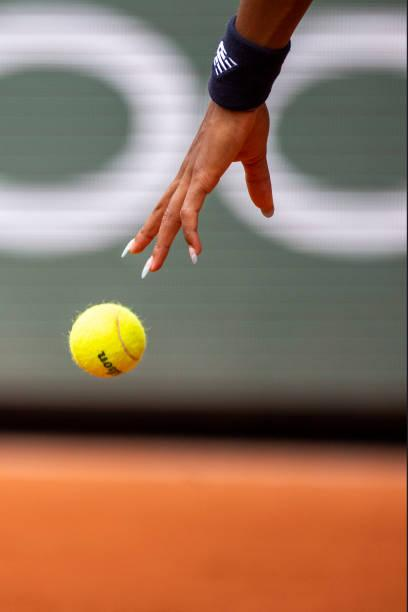ball_tennis: (67, 303, 149, 378)
